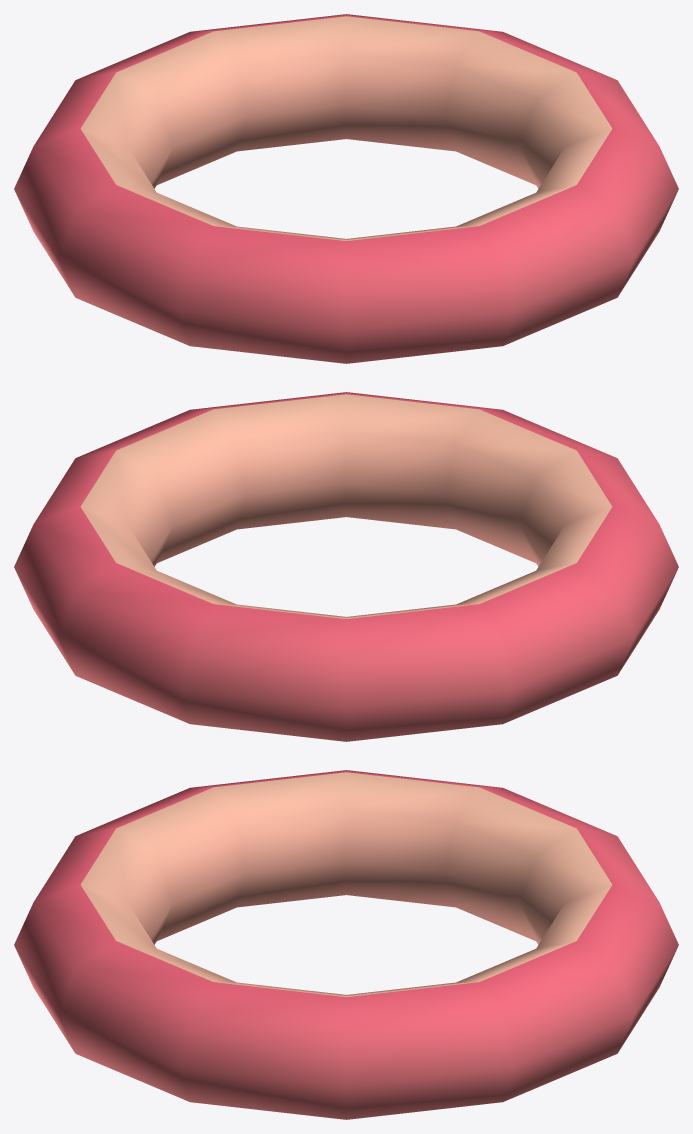
Rendered from Floaty_Round.fbx.
3 renders of one model, top to bottom at view 1: azimuth 30°, elevation 25°; view 2: azimuth 150°, elevation 25°; view 3: azimuth 270°, elevation 25°, orthographic.
Parts seen in each view (by area): view 1: Floaty_Round; view 2: Floaty_Round; view 3: Floaty_Round.
Part boxes in pixels (x1=…): Floaty_Round: x1=14, y1=14, x2=678, y2=363; Floaty_Round: x1=14, y1=392, x2=678, y2=741; Floaty_Round: x1=14, y1=770, x2=678, y2=1119.
Bounding box in the file's own units: 2.5 × 0.5 × 2.5.
